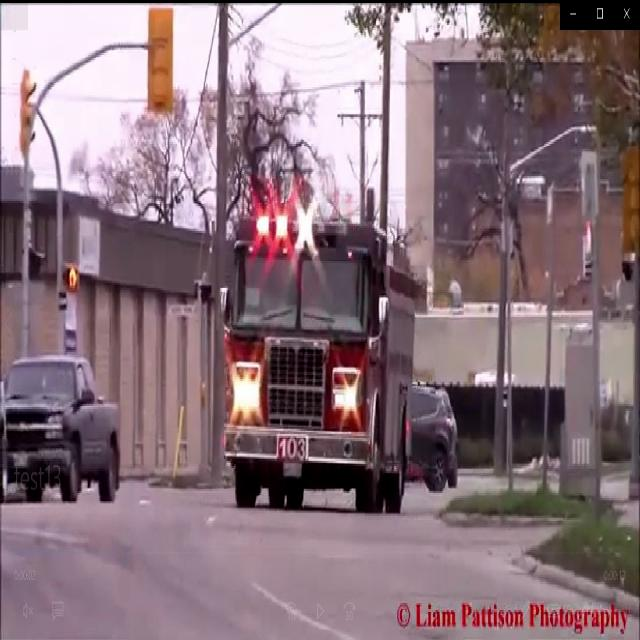emergency: (219, 192, 411, 522)
